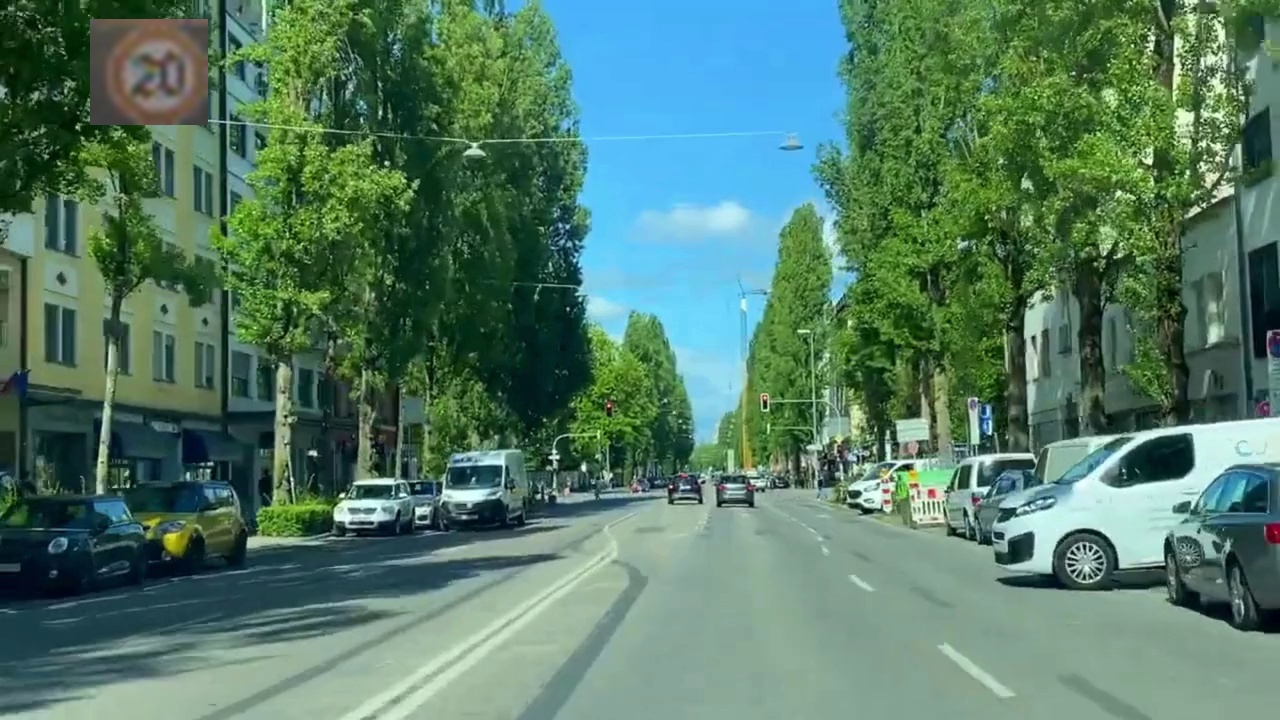Speed 20: (90, 19, 208, 125)
